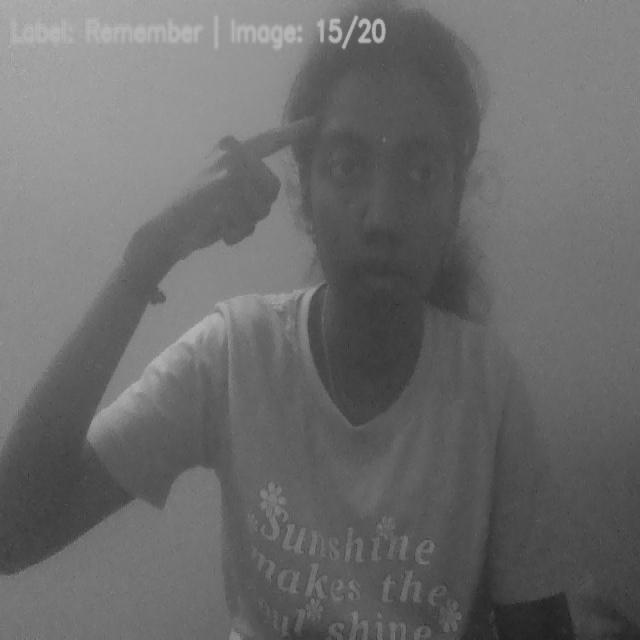Remember: (121, 104, 321, 276)
